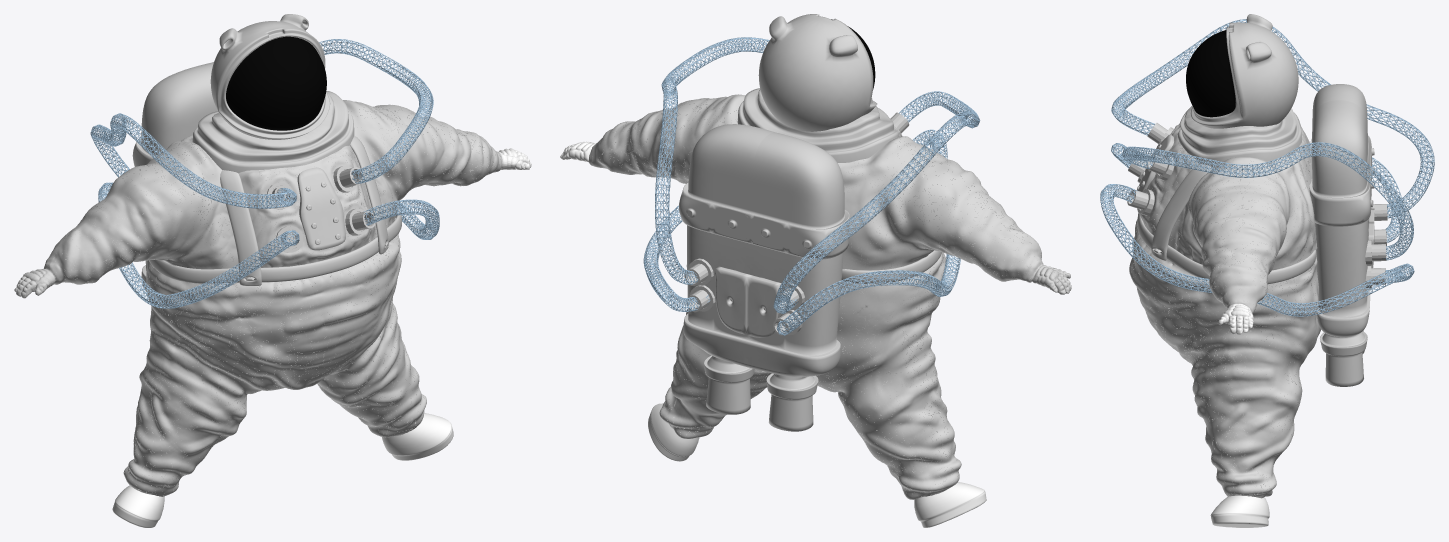
Rendered from spaceman.gltf.
The picture shows the model from 3 angles, left to right: view 1: azimuth 30°, elevation 25°; view 2: azimuth 150°, elevation 25°; view 3: azimuth 270°, elevation 25°; orthographic projection. The views are drawn at different scales.
Parts seen in each view (by area): view 1: Sphere.009, Cylinder.002, NurbsPath.004, Sphere.008, Plane.005, Plane.006; view 2: Sphere.009, Plane.005, NurbsPath.004, Sphere.008, Cylinder.002, Plane.006; view 3: Sphere.009, Plane.005, NurbsPath.004, Cylinder.002, Sphere.008, Plane.006, Sphere.007.
Boxes of the visible parts, box(x1,y1,x2,y2) form: Sphere.009: box(14, 100, 502, 496); Cylinder.002: box(149, 91, 401, 294); NurbsPath.004: box(90, 39, 439, 308); Sphere.008: box(210, 14, 330, 139); Plane.005: box(132, 62, 221, 296); Plane.006: box(112, 413, 453, 527); Sphere.009: box(588, 94, 1071, 499); Plane.005: box(679, 124, 849, 431); NurbsPath.004: box(643, 37, 980, 335); Sphere.008: box(758, 14, 877, 131); Cylinder.002: box(684, 88, 941, 335); Plane.006: box(648, 403, 986, 527); Sphere.009: box(1129, 112, 1321, 498); Plane.005: box(1309, 84, 1374, 386); NurbsPath.004: box(1100, 19, 1434, 316); Cylinder.002: box(1127, 105, 1387, 289); Sphere.008: box(1186, 14, 1298, 128); Plane.006: box(1210, 494, 1269, 527); Sphere.007: box(1218, 303, 1253, 334).
Bounding box in the file's own units: 5.36 × 4.75 × 3.23.
